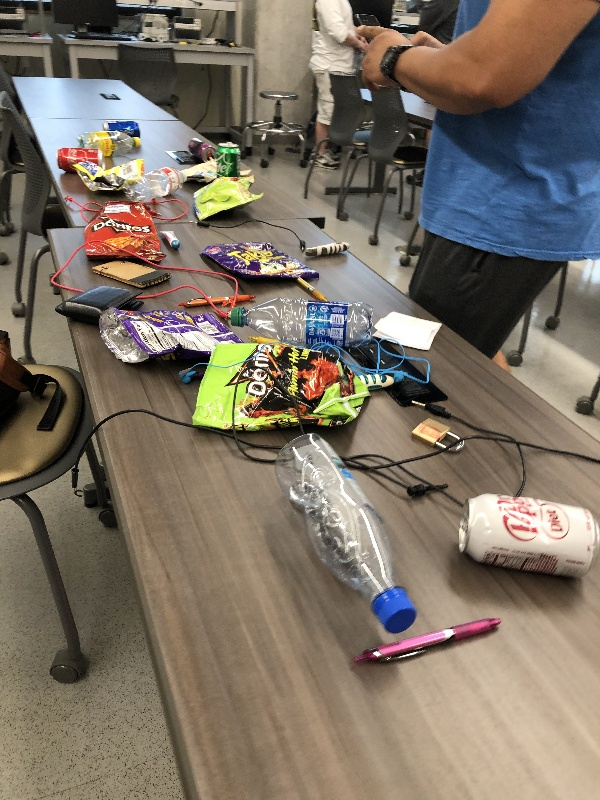bag: (189, 339, 377, 435), (91, 300, 247, 370), (200, 237, 328, 287), (77, 200, 172, 265), (188, 174, 267, 226), (69, 159, 147, 192), (177, 156, 237, 186)
bottle: (260, 431, 423, 636), (224, 298, 381, 349), (124, 163, 192, 201), (73, 129, 145, 158)
can: (451, 491, 600, 583), (213, 138, 242, 181), (53, 145, 104, 168), (99, 119, 144, 139), (186, 135, 220, 161)
